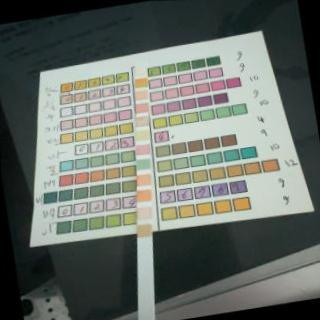mark: (136, 224, 153, 237), (138, 208, 154, 220), (138, 190, 152, 202), (138, 175, 152, 186), (137, 160, 151, 170), (136, 144, 149, 154), (135, 132, 149, 141), (133, 66, 146, 75), (136, 105, 148, 114), (136, 91, 148, 100), (135, 79, 147, 88), (135, 118, 148, 126)
